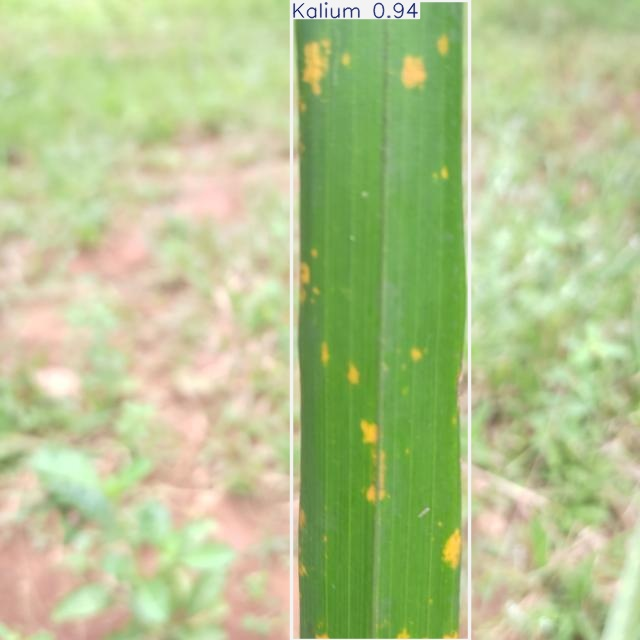Kalium: (292, 0, 469, 640)
